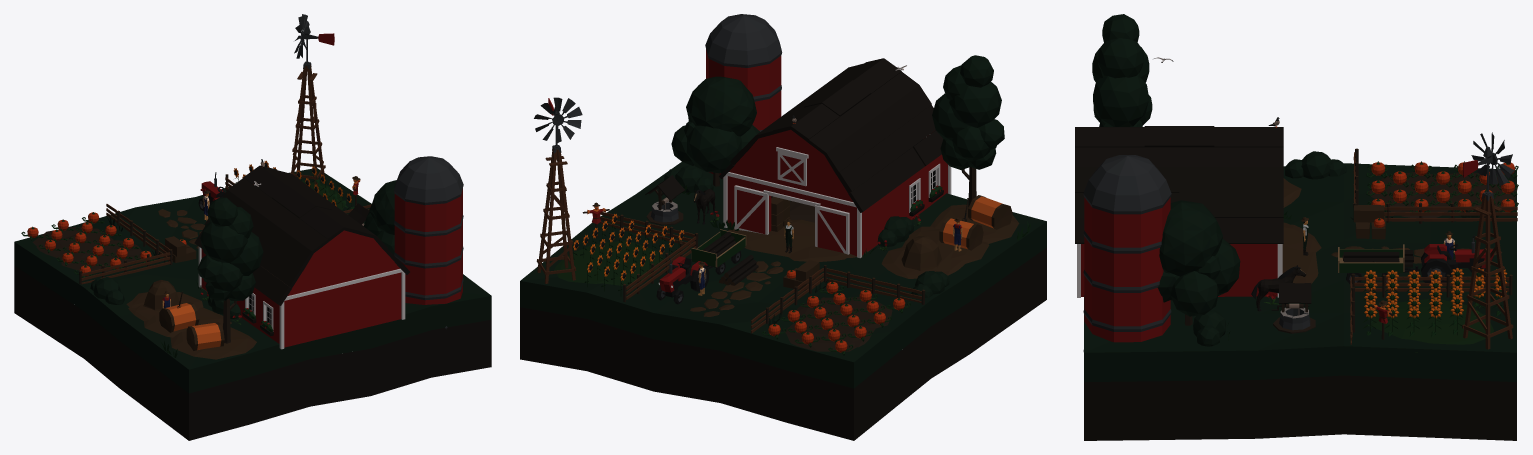
3 views of the same model, side by side, from view 1: azimuth 30°, elevation 25°; view 2: azimuth 150°, elevation 25°; view 3: azimuth 270°, elevation 25° (orthographic). The views are drawn at different scales.
Parts seen in each view (by area): view 1: Obj3d66-1716497-26-754, Obj3d66-1716497-5-895, Obj3d66-1716497-12-456, Obj3d66-1716497-7-623, Obj3d66-1716497-8-518, Obj3d66-1716497-25-884, Obj3d66-1716497-27-872, Obj3d66-1716497-10-486, Obj3d66-1716497-15-255, Obj3d66-1716497-4-618, Obj3d66-1716497-14-925; view 2: Obj3d66-1716497-5-895, Obj3d66-1716497-26-754, Obj3d66-1716497-12-456, Obj3d66-1716497-7-623, Obj3d66-1716497-25-884, Obj3d66-1716497-8-518, Obj3d66-1716497-27-872, Obj3d66-1716497-15-255, Obj3d66-1716497-4-618, Obj3d66-1716497-23-351, Obj3d66-1716497-10-486, Obj3d66-1716497-21-422 (+2 smaller); view 3: Obj3d66-1716497-5-895, Obj3d66-1716497-26-754, Obj3d66-1716497-12-456, Obj3d66-1716497-8-518, Obj3d66-1716497-25-884, Obj3d66-1716497-4-618, Obj3d66-1716497-27-872, Obj3d66-1716497-7-623, Obj3d66-1716497-23-351, Obj3d66-1716497-19-793, Obj3d66-1716497-10-486, Obj3d66-1716497-21-422 (+1 smaller).
Boxes of the visible parts, bbox=[...] form: Obj3d66-1716497-26-754: bbox=[14, 165, 491, 440]; Obj3d66-1716497-5-895: bbox=[14, 168, 491, 393]; Obj3d66-1716497-12-456: bbox=[162, 33, 462, 347]; Obj3d66-1716497-7-623: bbox=[79, 174, 359, 359]; Obj3d66-1716497-8-518: bbox=[199, 14, 463, 329]; Obj3d66-1716497-25-884: bbox=[81, 65, 371, 284]; Obj3d66-1716497-27-872: bbox=[32, 175, 360, 343]; Obj3d66-1716497-10-486: bbox=[27, 167, 262, 276]; Obj3d66-1716497-15-255: bbox=[198, 181, 405, 349]; Obj3d66-1716497-4-618: bbox=[21, 174, 354, 357]; Obj3d66-1716497-14-925: bbox=[165, 179, 360, 350]; Obj3d66-1716497-5-895: bbox=[520, 55, 1046, 388]; Obj3d66-1716497-26-754: bbox=[520, 58, 1046, 440]; Obj3d66-1716497-12-456: bbox=[548, 49, 961, 292]; Obj3d66-1716497-7-623: bbox=[592, 195, 1019, 316]; Obj3d66-1716497-25-884: bbox=[536, 148, 921, 333]; Obj3d66-1716497-8-518: bbox=[534, 14, 782, 301]; Obj3d66-1716497-27-872: bbox=[582, 167, 976, 351]; Obj3d66-1716497-15-255: bbox=[723, 66, 951, 258]; Obj3d66-1716497-4-618: bbox=[573, 184, 1030, 355]; Obj3d66-1716497-23-351: bbox=[554, 240, 663, 285]; Obj3d66-1716497-10-486: bbox=[768, 69, 905, 352]; Obj3d66-1716497-21-422: bbox=[575, 139, 966, 304]; Obj3d66-1716497-5-895: bbox=[1084, 14, 1516, 382]; Obj3d66-1716497-26-754: bbox=[1075, 126, 1516, 440]; Obj3d66-1716497-12-456: bbox=[1081, 160, 1493, 342]; Obj3d66-1716497-8-518: bbox=[1083, 132, 1514, 351]; Obj3d66-1716497-25-884: bbox=[1350, 152, 1517, 349]; Obj3d66-1716497-4-618: bbox=[1227, 161, 1518, 340]; Obj3d66-1716497-27-872: bbox=[1172, 149, 1517, 339]; Obj3d66-1716497-7-623: bbox=[1282, 148, 1512, 318]; Obj3d66-1716497-23-351: bbox=[1371, 298, 1493, 352]; Obj3d66-1716497-19-793: bbox=[1364, 268, 1507, 318]; Obj3d66-1716497-10-486: bbox=[1275, 126, 1514, 227]; Obj3d66-1716497-21-422: bbox=[1251, 235, 1485, 299].
Size of the model in its own units: 5094 by 3756 by 5172.
